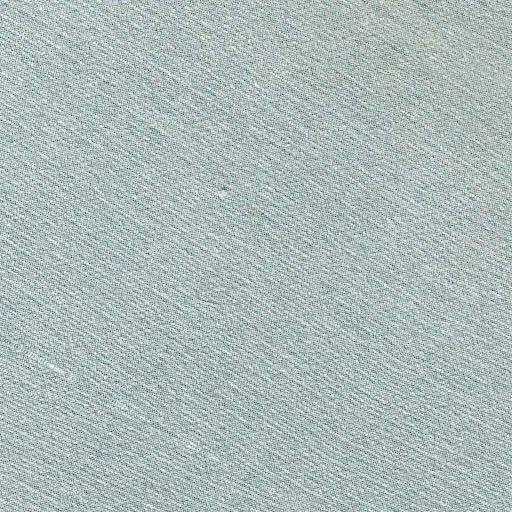knot: (207, 176, 242, 208)
